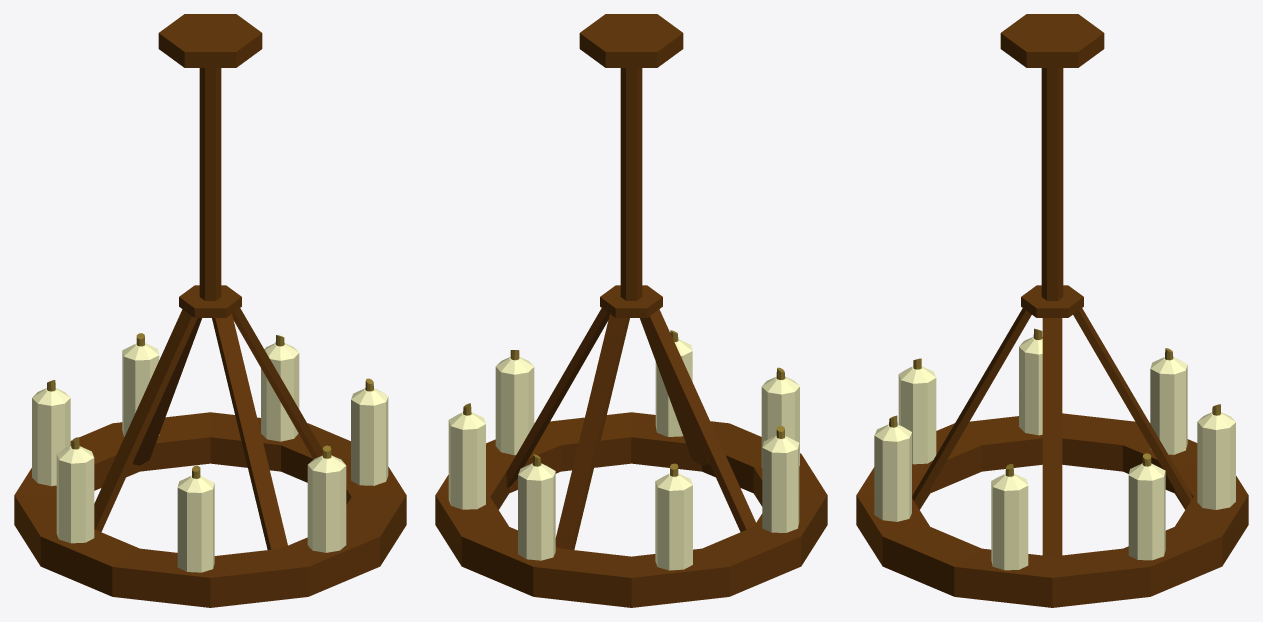
The model's file is Candle_chandelier.fbx.
The picture shows the model from 3 angles, left to right: view 1: azimuth 30°, elevation 25°; view 2: azimuth 150°, elevation 25°; view 3: azimuth 270°, elevation 25°; orthographic projection.
Parts seen in each view (by area): view 1: Candle.007; view 2: Candle.007; view 3: Candle.007.
Boxes of the visible parts, bbox=[...] form: Candle.007: bbox=[14, 14, 406, 607]; Candle.007: bbox=[435, 14, 827, 607]; Candle.007: bbox=[856, 14, 1248, 607].
Size of the model in its own units: 443 by 614 by 443.
